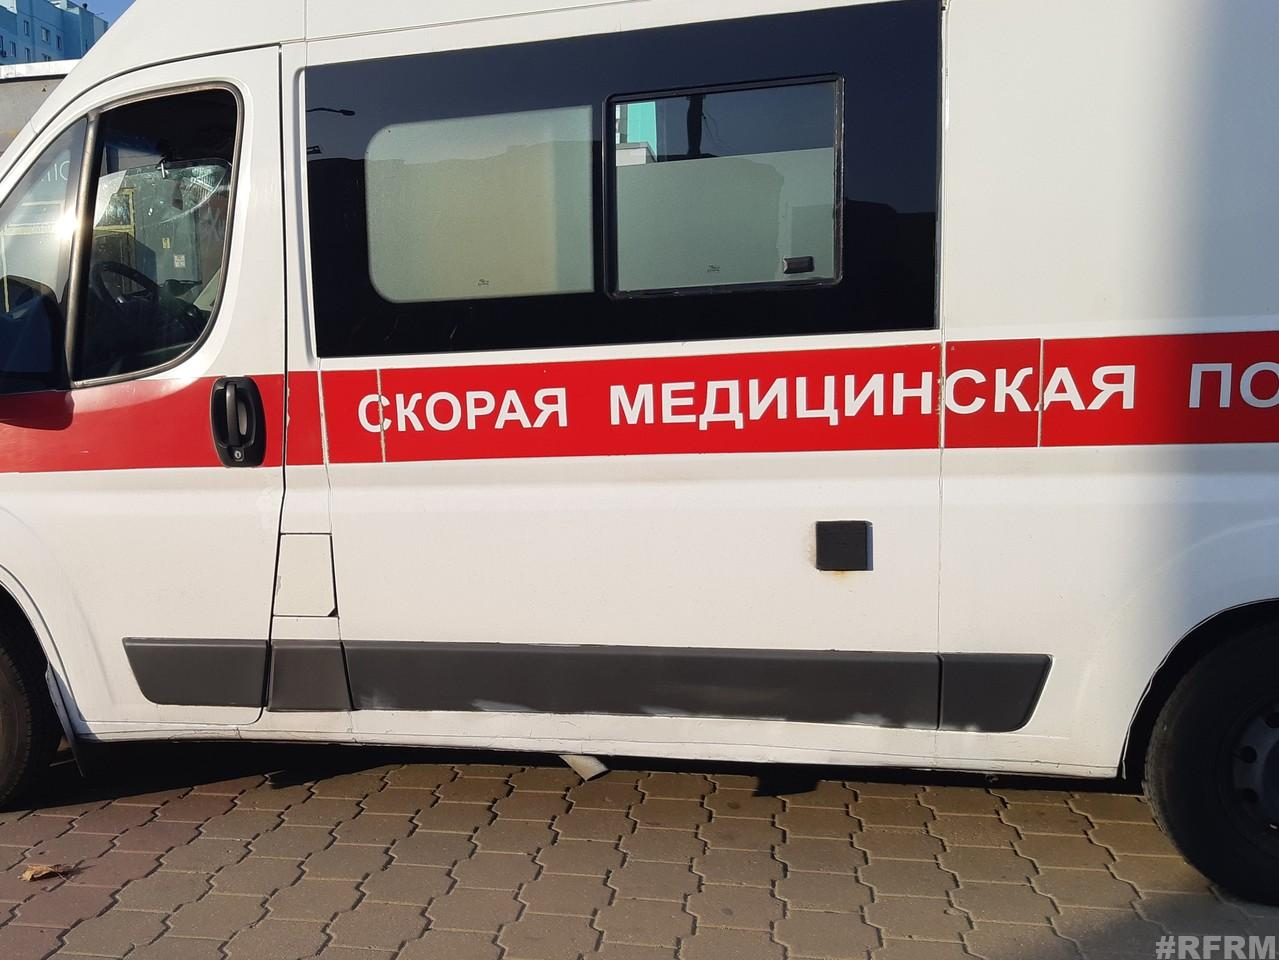special: (5, 3, 1279, 919)
